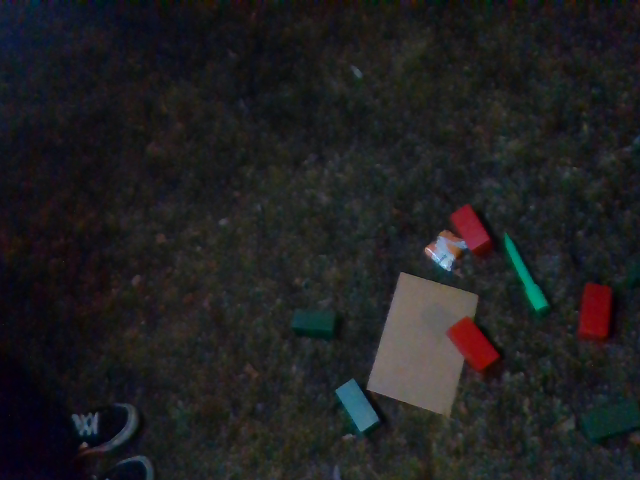Probe: (493, 226, 556, 317)
